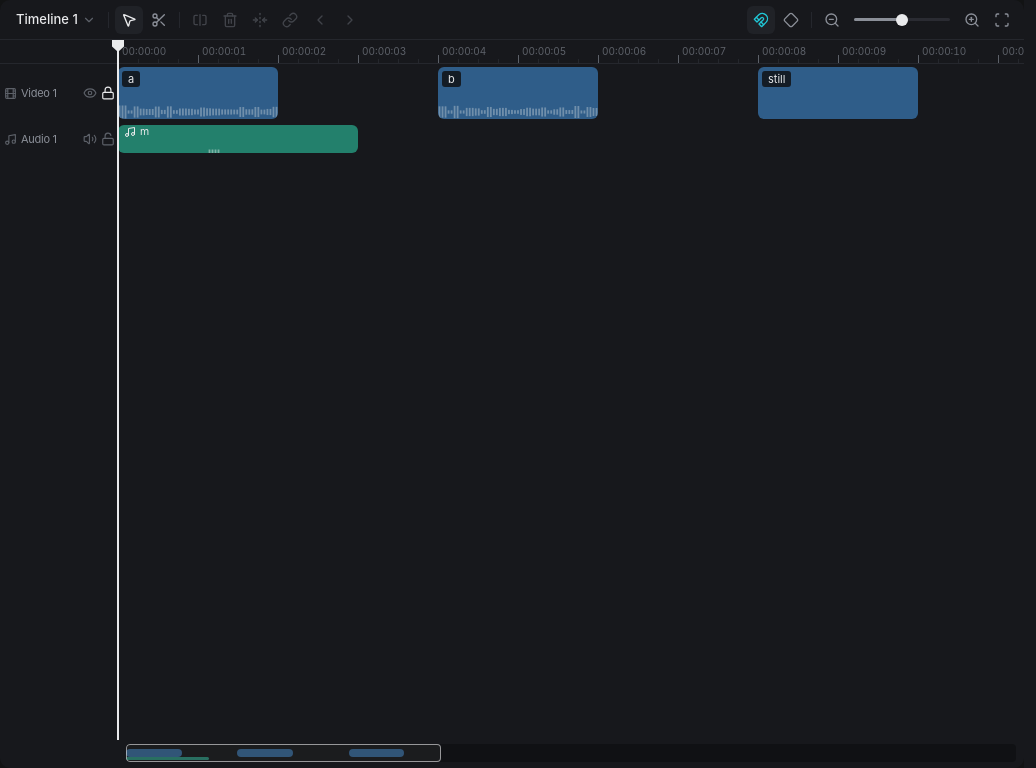
Test: TimelineContextMenu › shows Reverse only for video and audio clips, disabled with the reason on a locked track
Right-click the option "still" at (838, 93), box [758,67,918,119]
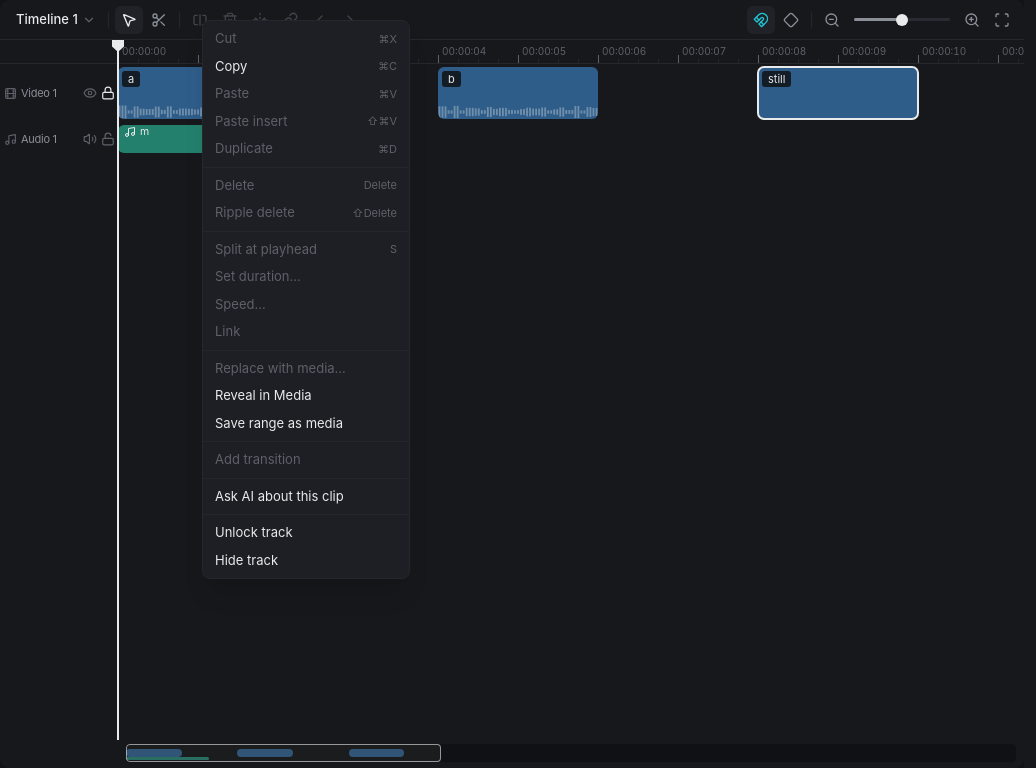
Check: the menu item "Reverse" is not shown
Press Escape in the menu, box [202,20,410,579]
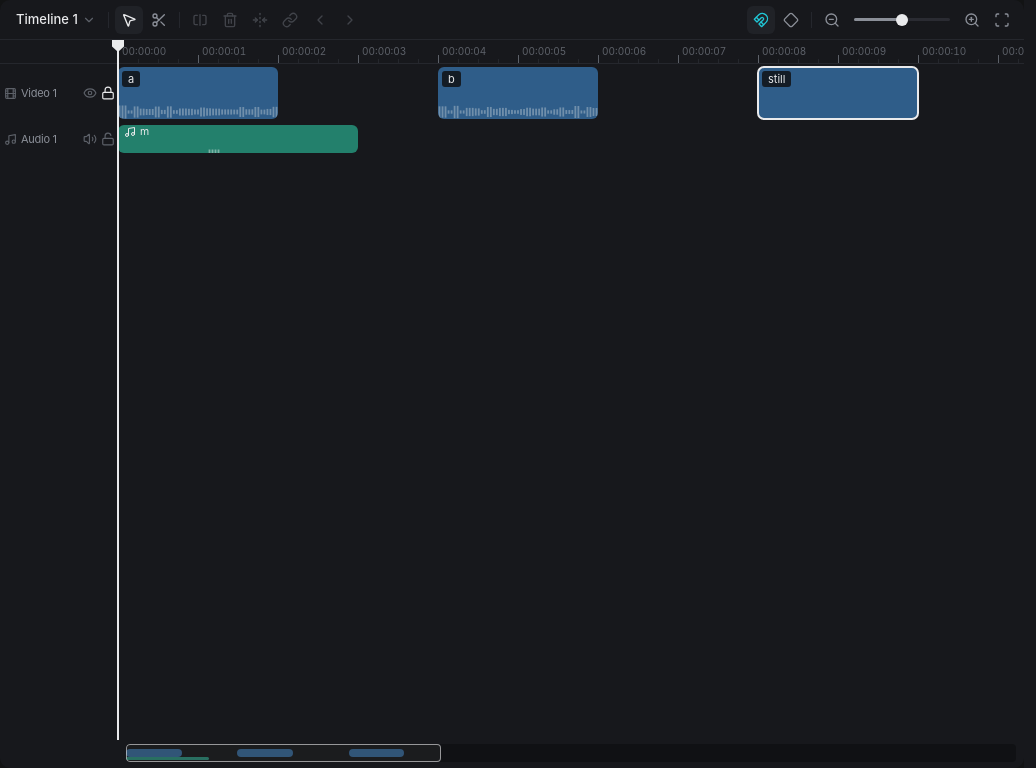
Check: the menu is gone
Right-click the option "b" at (518, 93), box [438,67,598,119]
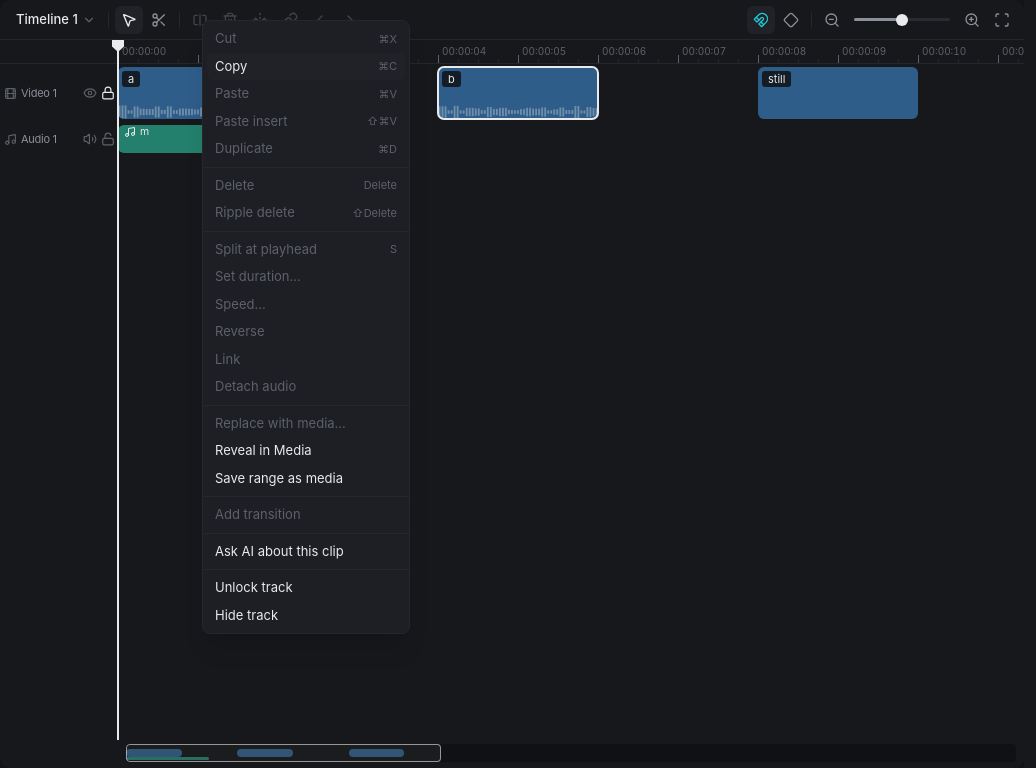
Focus the menu item "Reverse". click: (240, 331)
box: [215,323,264,339]
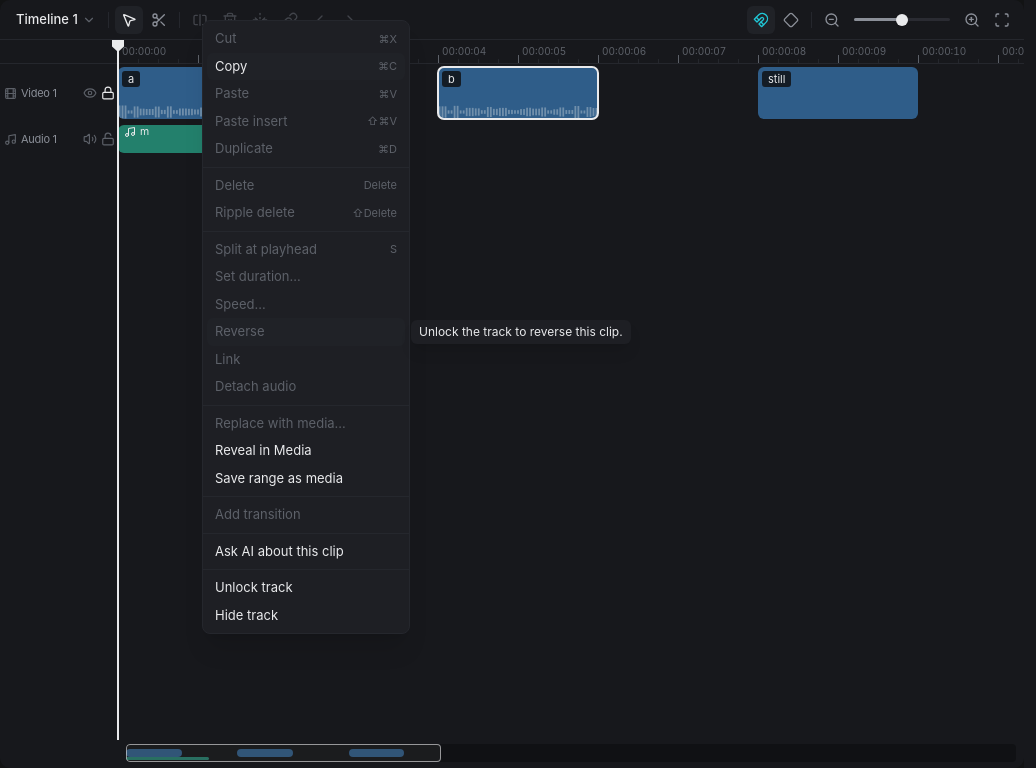
Check: the tooltip reads "Unlock the track to reverse this clip.", box [419,324,623,339]
